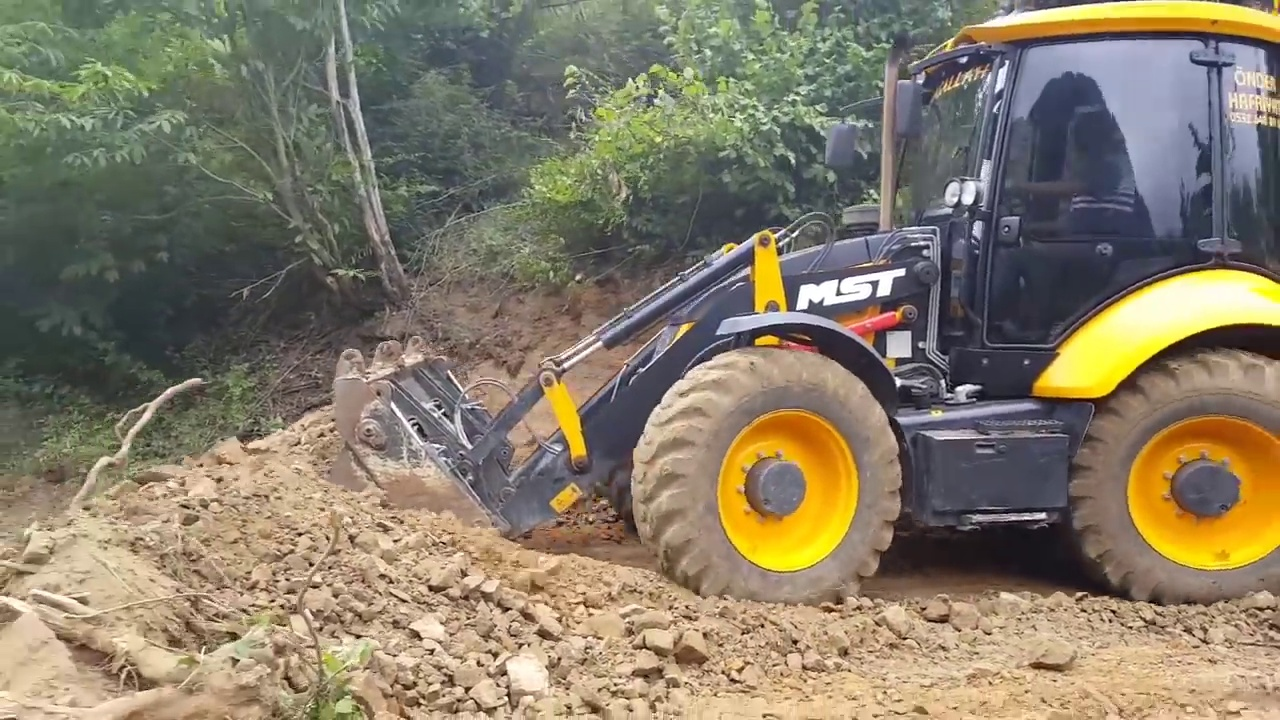wheel loader: (297, 1, 1279, 610)
